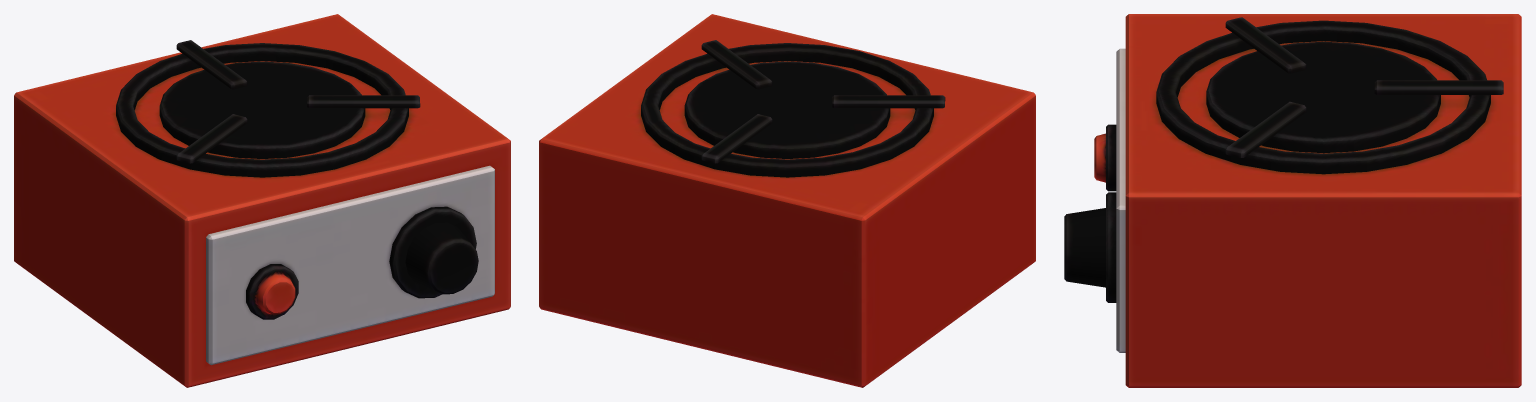
File: gasStove.glb
3 renders of one model, left to right at view 1: azimuth 30°, elevation 25°; view 2: azimuth 150°, elevation 25°; view 3: azimuth 270°, elevation 25°, orthographic. The views are drawn at different scales.
Parts seen in each view (by area): view 1: 7.001; view 2: 7.001; view 3: 7.001.
Part boxes in pixels (left/top/right/bottom): 7.001: left=14, top=14, right=510, bottom=387; 7.001: left=539, top=14, right=1035, bottom=387; 7.001: left=1064, top=14, right=1521, bottom=387.
Bounding box in the file's own units: 2 × 1.1 × 2.13.
1 material, 1 textured.
